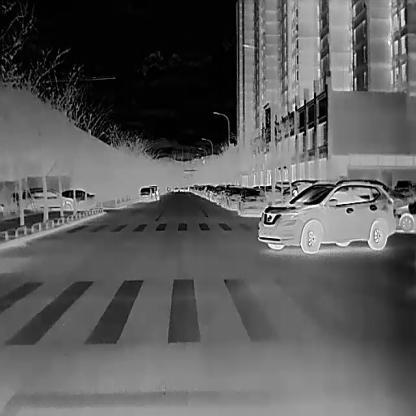car: (257, 180, 396, 251), (24, 189, 74, 212), (237, 187, 268, 217), (59, 188, 96, 208), (226, 188, 244, 211), (138, 186, 156, 202), (148, 184, 159, 202), (220, 190, 229, 208), (215, 193, 222, 205), (210, 190, 215, 202)
